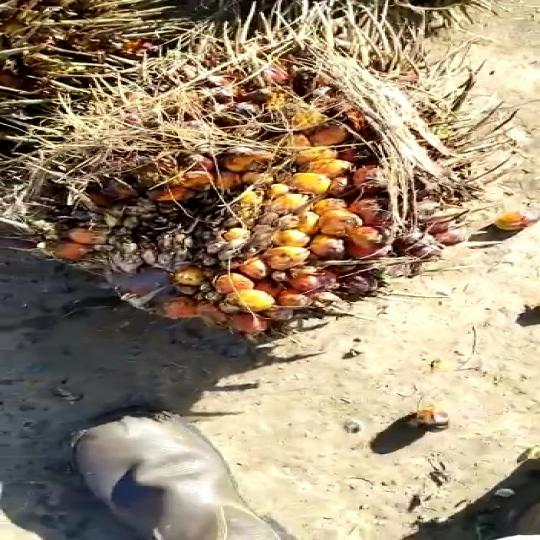terlalu masak: (12, 0, 538, 330)
